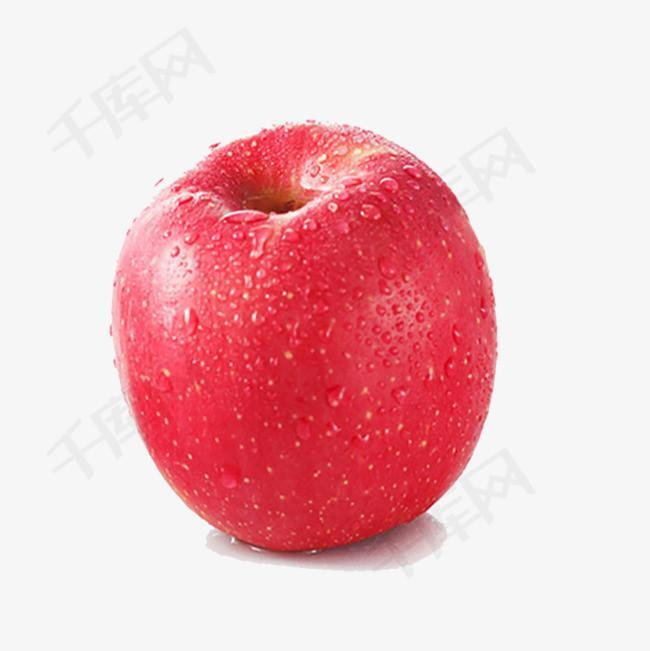apple: (111, 114, 498, 554)
